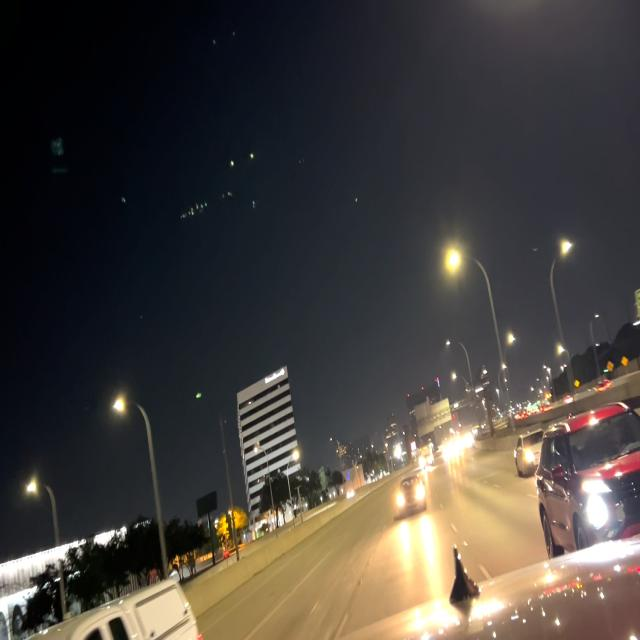back-of-sign: (413, 395, 452, 440)
